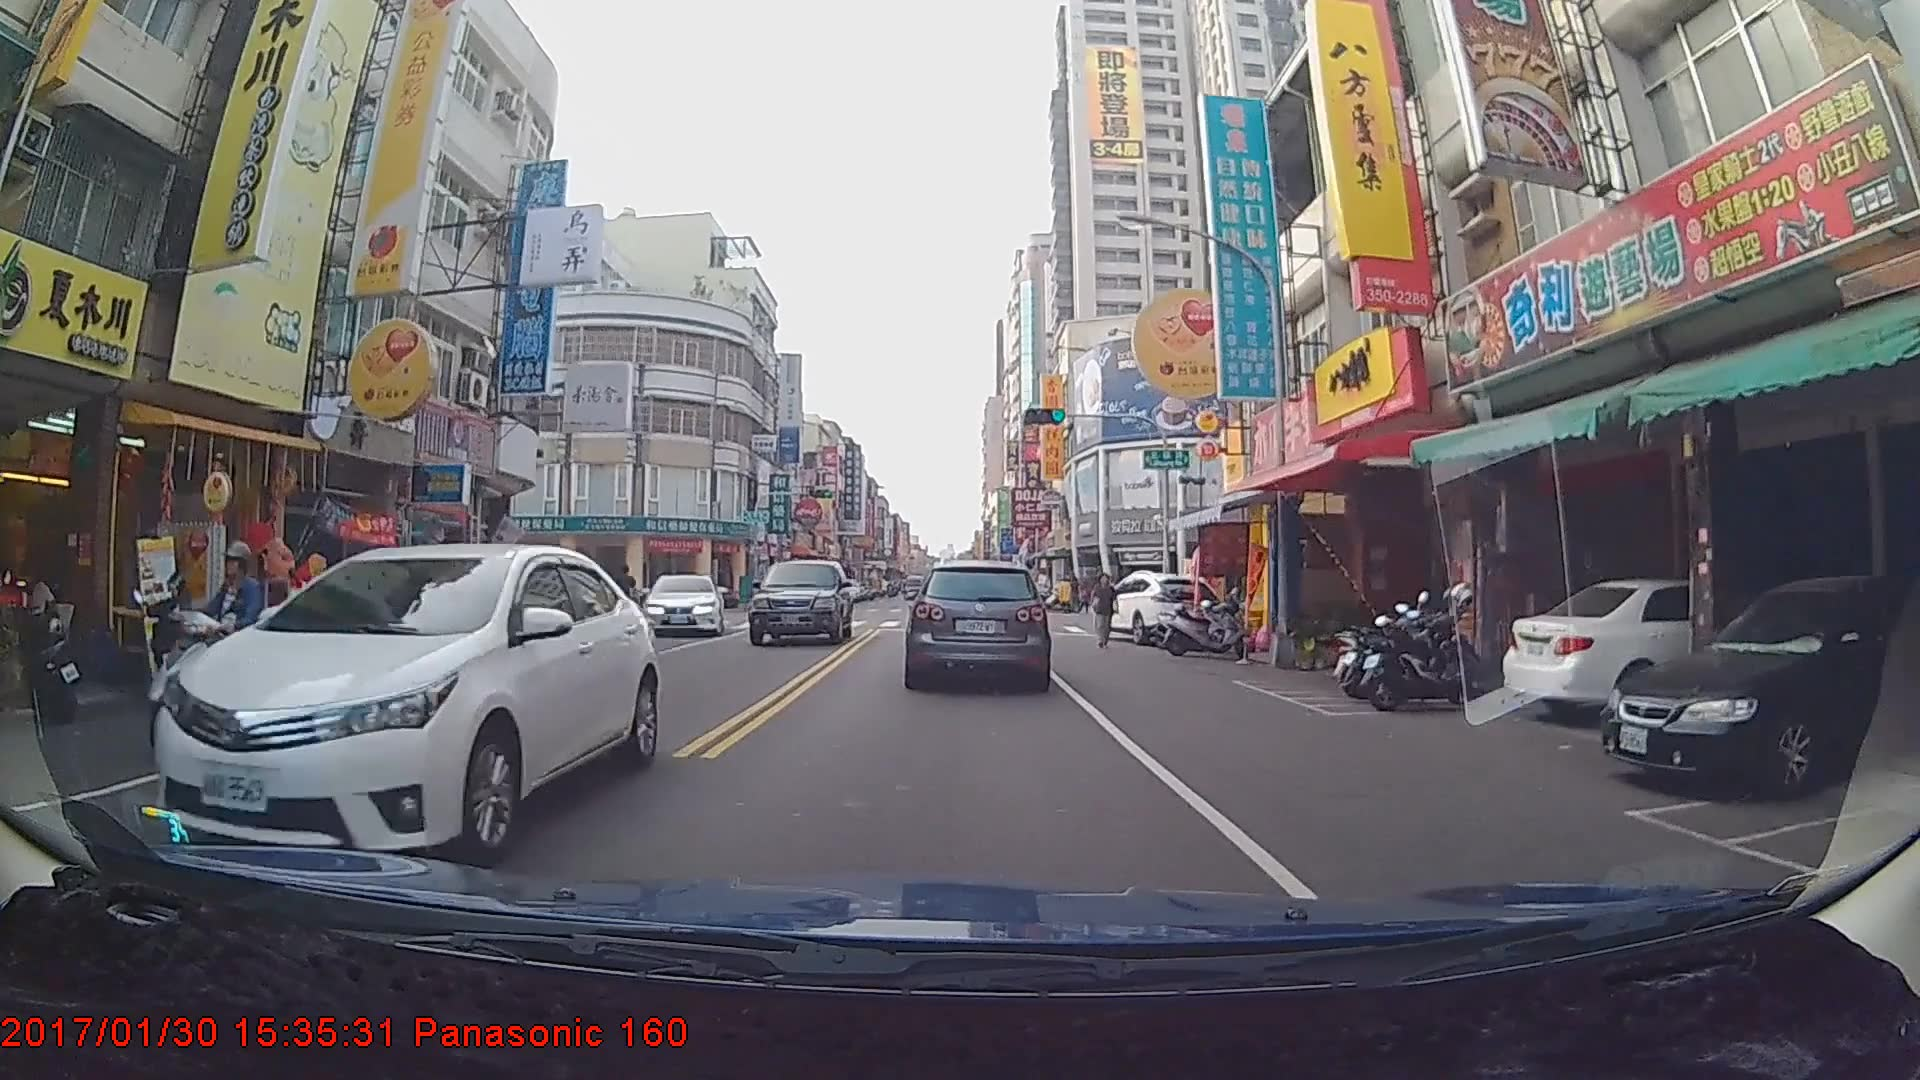pedestrian: (1091, 573, 1119, 651)
vehicle: (152, 542, 660, 871), (1594, 563, 1920, 803), (907, 559, 1047, 689), (1087, 574, 1228, 648), (750, 558, 853, 647), (639, 572, 723, 637), (901, 575, 927, 603)
